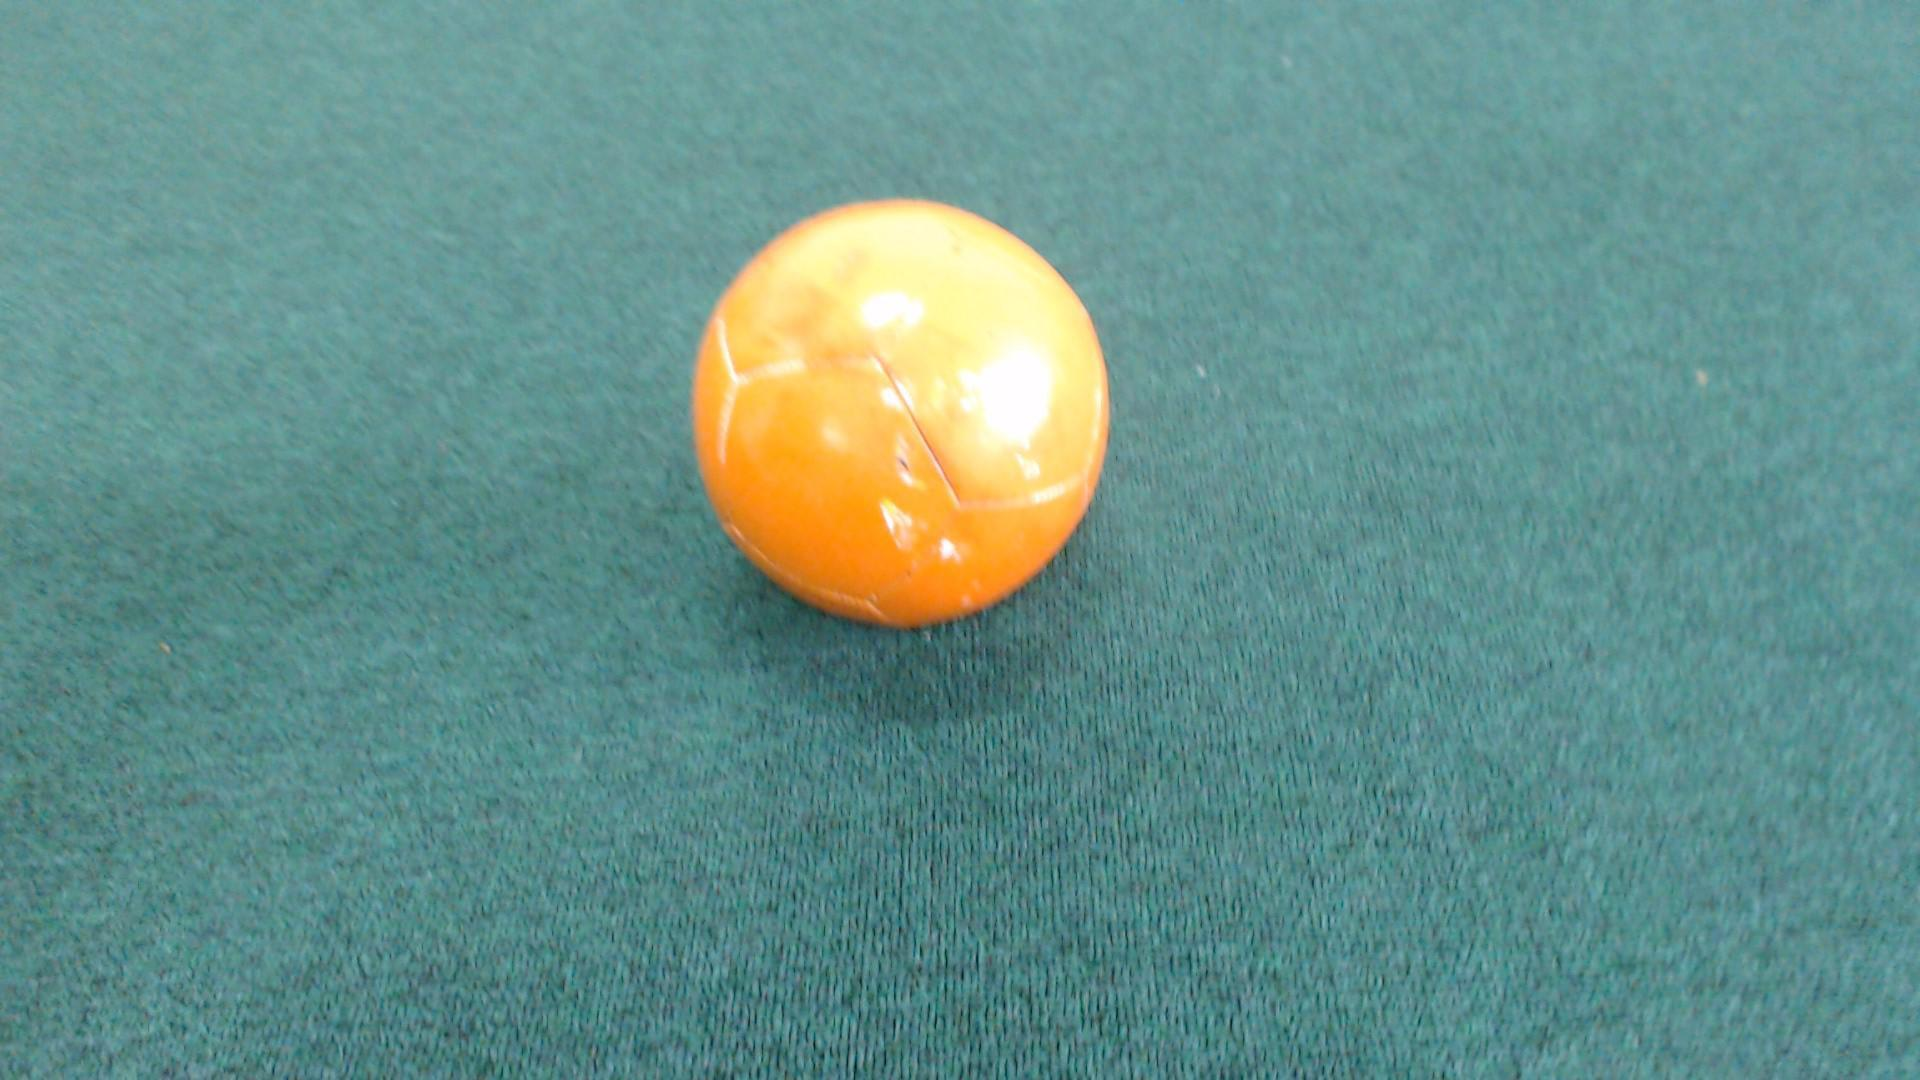bola: (658, 186, 1125, 650)
